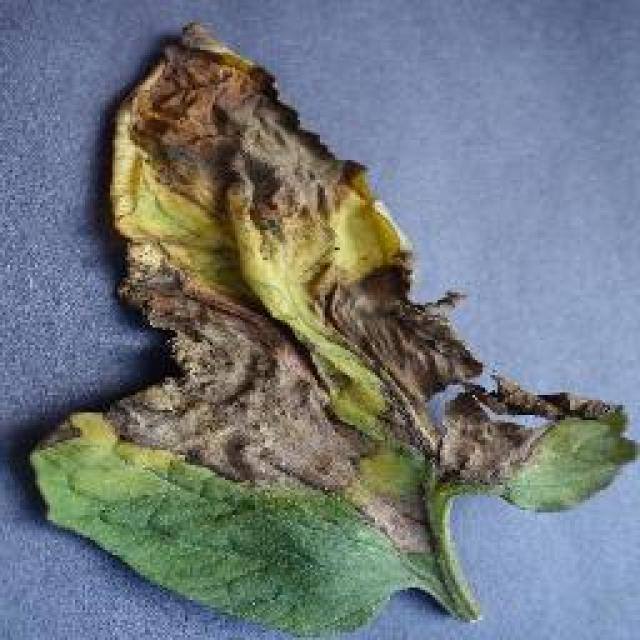Tomato Late Blight: (41, 22, 566, 480)
